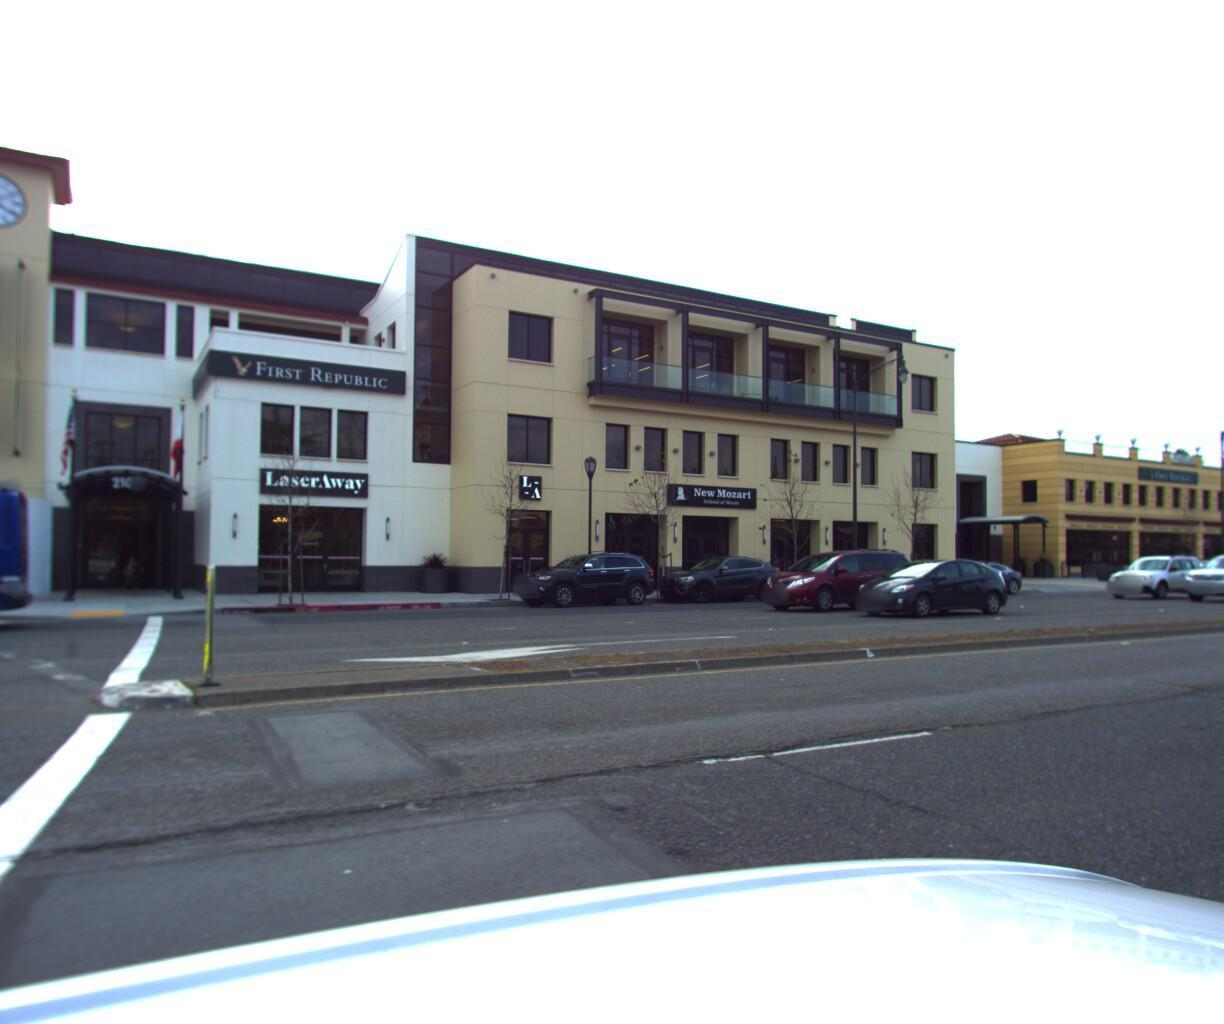car: (753, 545, 920, 609), (843, 555, 1012, 618), (505, 549, 663, 613), (650, 554, 790, 606), (1099, 550, 1219, 594), (912, 560, 1028, 597), (1169, 548, 1224, 604)
